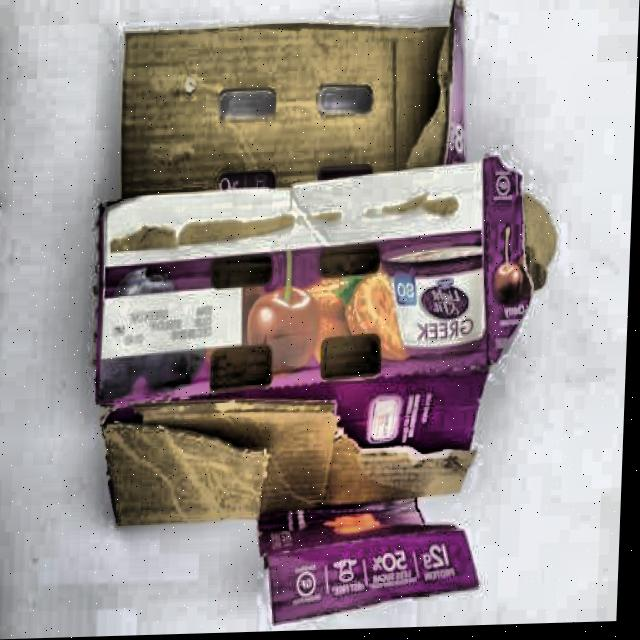cardboard: (78, 0, 561, 630)
